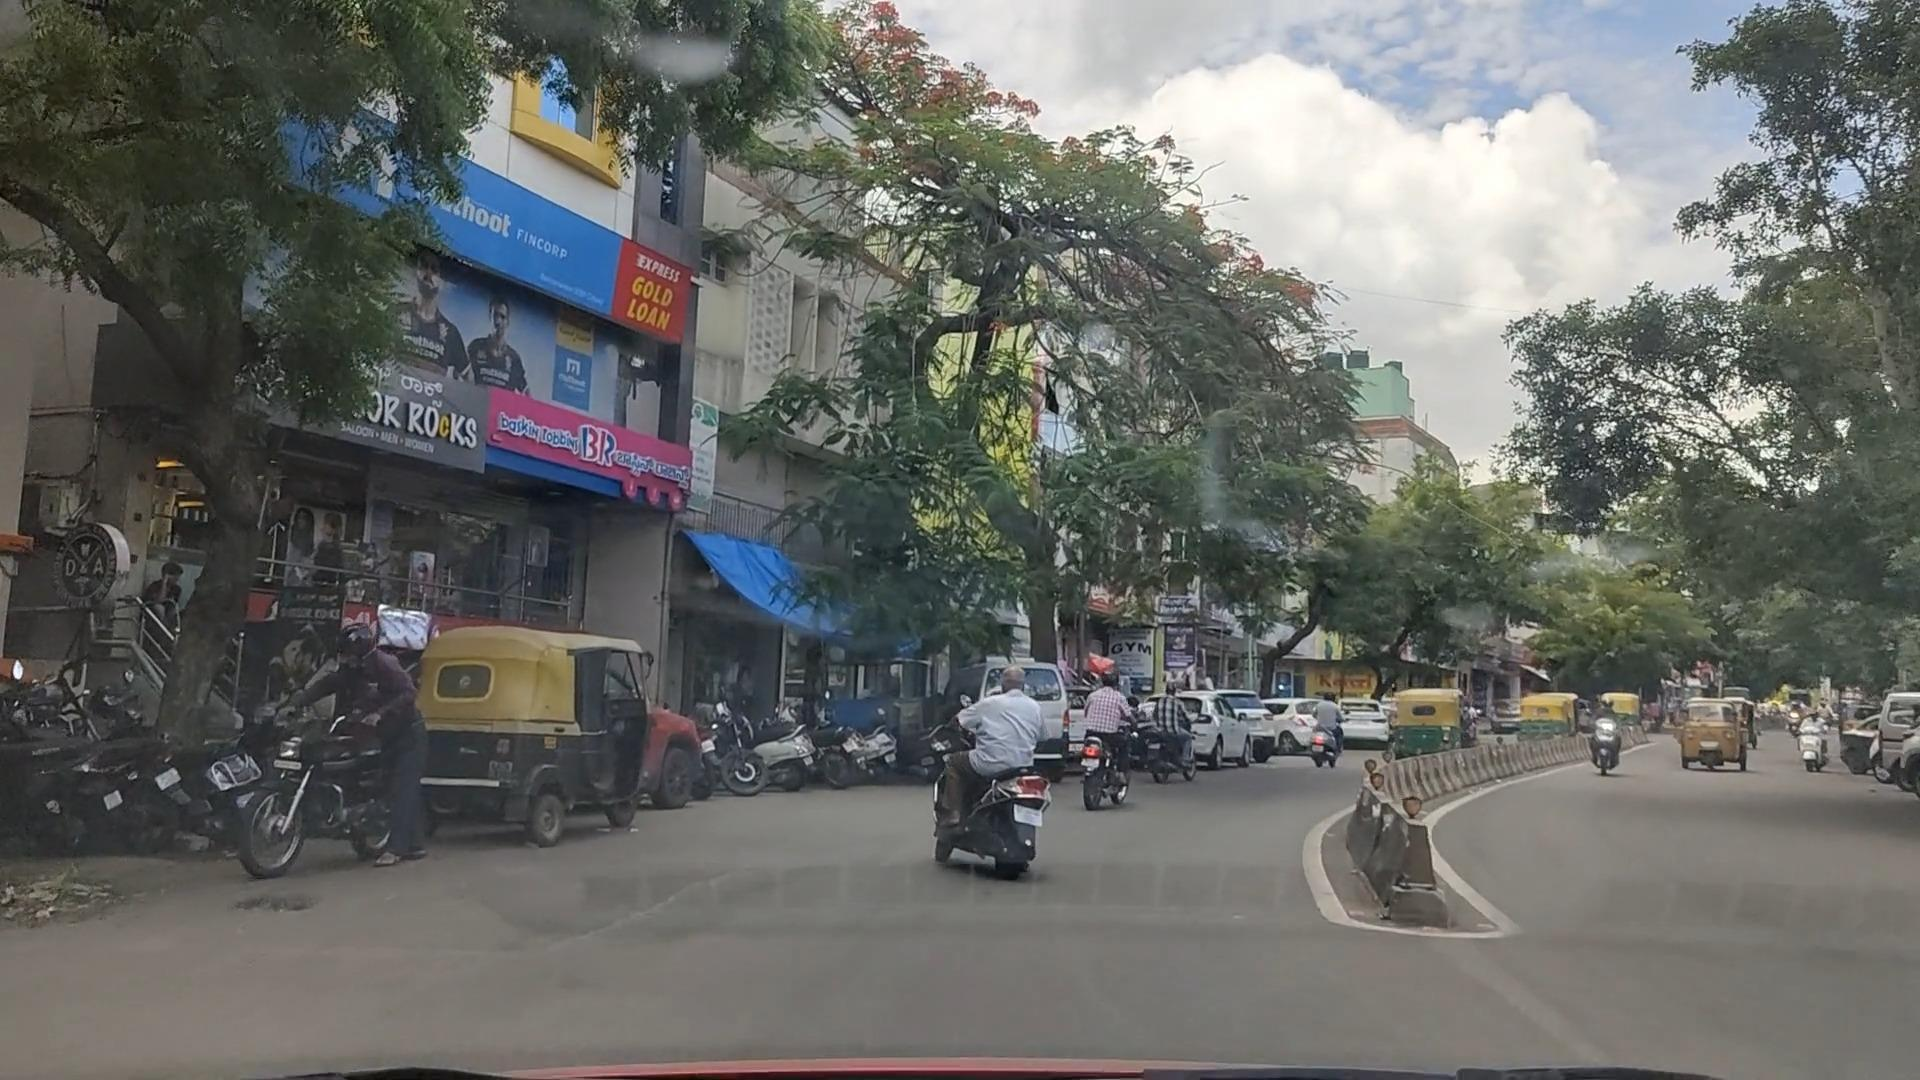LMV: (237, 596, 443, 902), (454, 608, 653, 860), (887, 647, 1063, 886)
RoadDamages: (472, 840, 744, 943), (195, 876, 334, 944)
